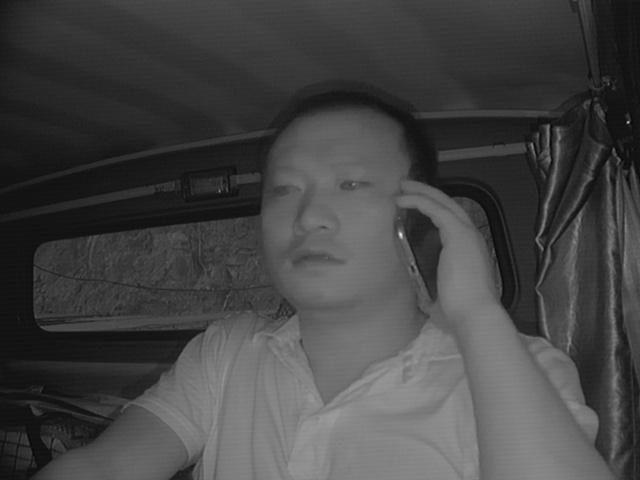hand: (393, 169, 492, 325)
